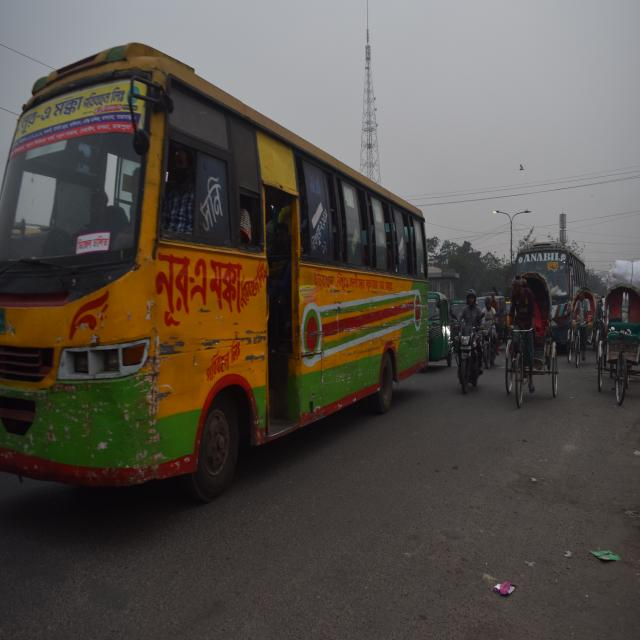bus: (4, 39, 432, 519), (515, 241, 587, 346)
motorbike: (444, 308, 481, 398), (480, 306, 498, 370)
